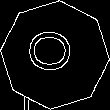O_E: (28, 31, 82, 79)
